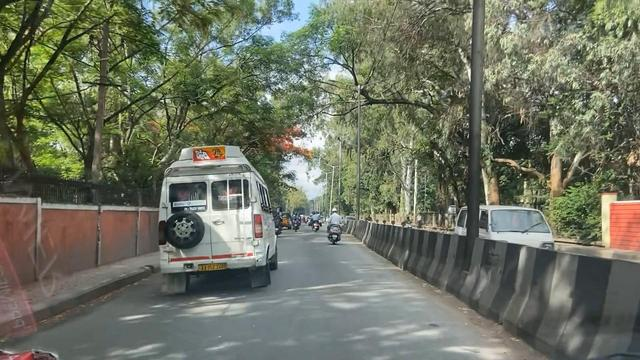HMV: (160, 147, 263, 290)
LMV: (329, 209, 342, 244), (311, 207, 321, 232)
